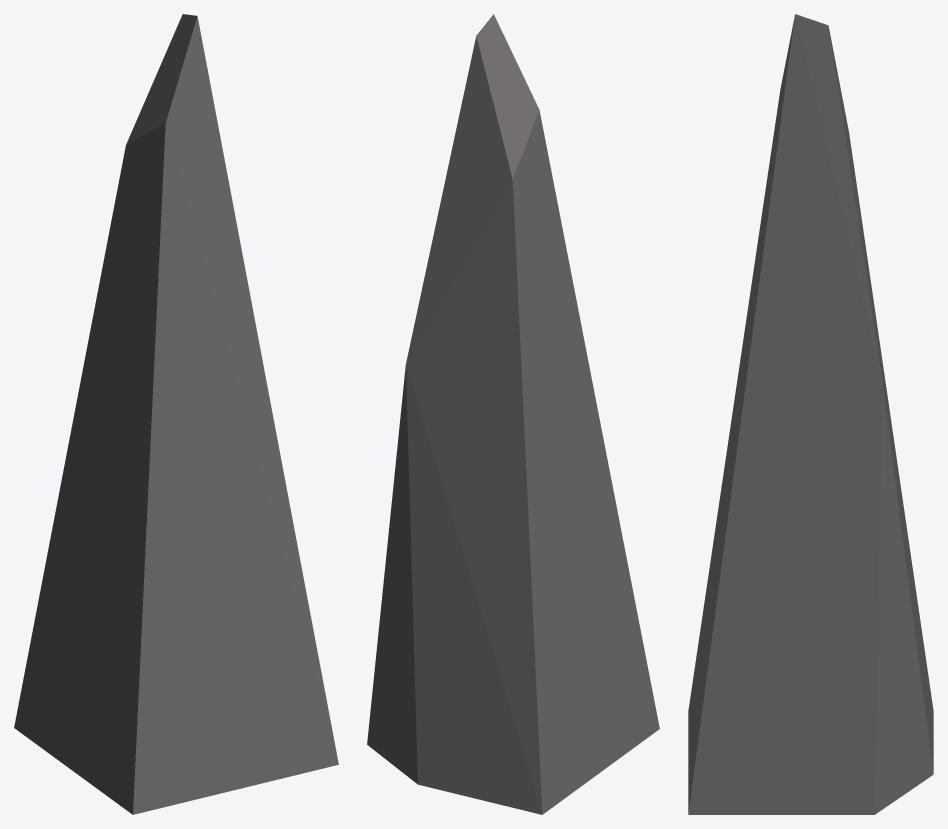
Rendered from Rock_Sharp_s_01 2.fbx.
3 views of the same model, side by side, from view 1: azimuth 30°, elevation 25°; view 2: azimuth 150°, elevation 25°; view 3: azimuth 270°, elevation 25° (orthographic). The views are drawn at different scales.
Parts seen in each view (by area): view 1: Rock_Sharp_s_01; view 2: Rock_Sharp_s_01; view 3: Rock_Sharp_s_01.
Part boxes in pixels (x1,y1,x2,y2): Rock_Sharp_s_01: (14, 14, 338, 814); Rock_Sharp_s_01: (367, 14, 659, 814); Rock_Sharp_s_01: (688, 14, 933, 814).
Size of the model in its own units: 24.39 by 82.94 by 24.39.
